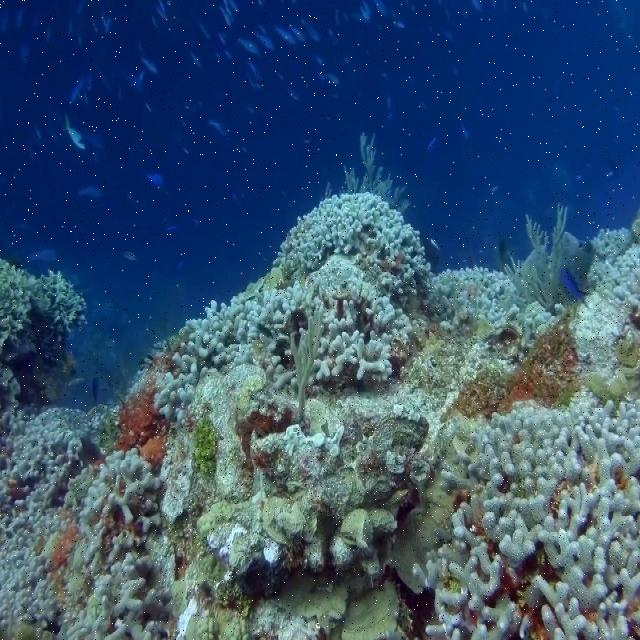aquatic plants: (504, 203, 570, 311), (290, 311, 322, 408)
fish: (561, 271, 590, 305)
reefs: (405, 399, 639, 639), (0, 367, 170, 639), (154, 281, 411, 417), (276, 190, 429, 293), (426, 268, 515, 323)
